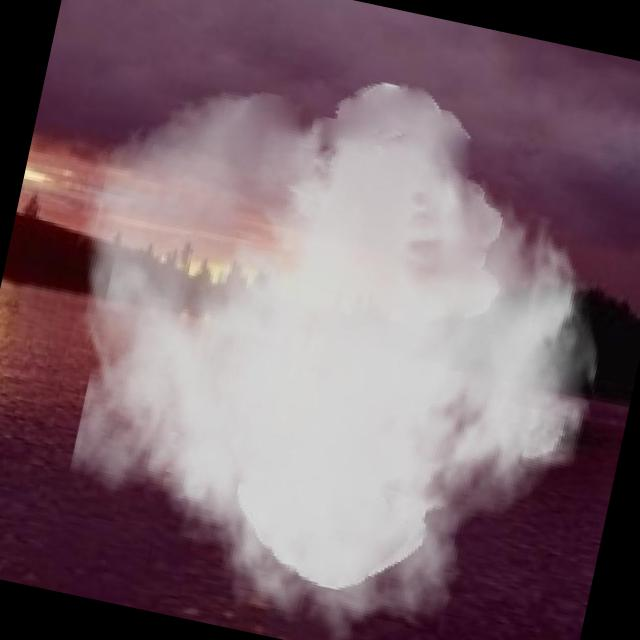Smoke: (0, 23, 640, 640)
